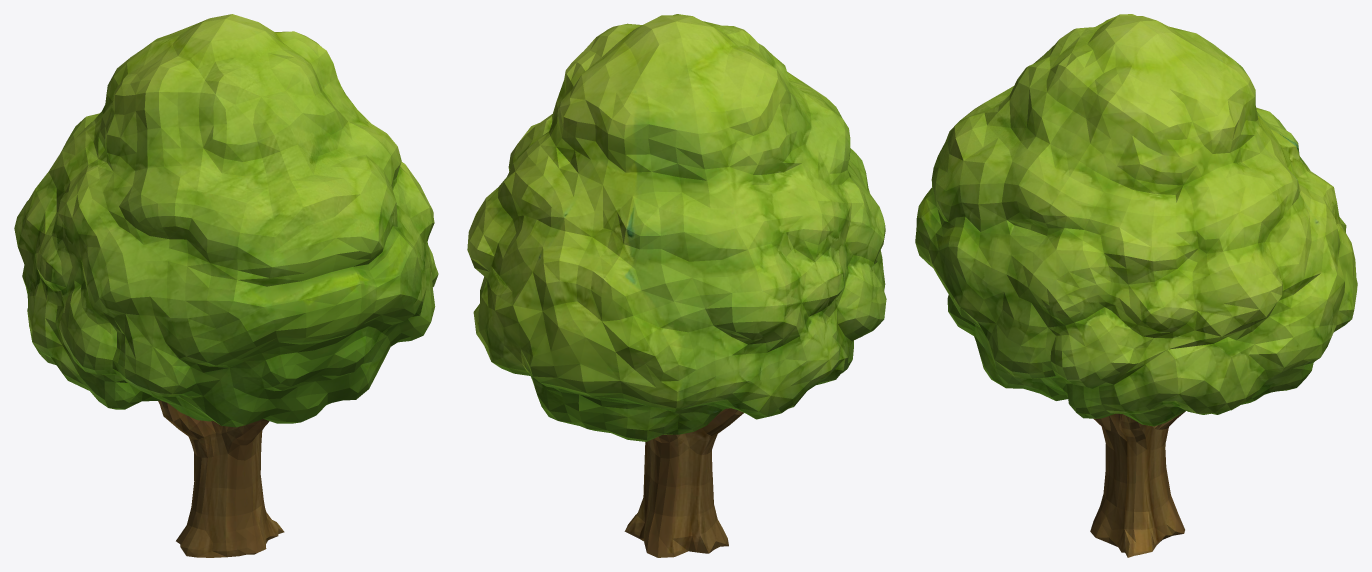
Rendered from Tree3.glb.
3 renders of one model, left to right at view 1: azimuth 30°, elevation 25°; view 2: azimuth 150°, elevation 25°; view 3: azimuth 270°, elevation 25°, orthographic.
Visible parts, largest first — view 1: tripo_node_56f3d3fc-41d4-479d-a2f2-a57e836636cc; view 2: tripo_node_56f3d3fc-41d4-479d-a2f2-a57e836636cc; view 3: tripo_node_56f3d3fc-41d4-479d-a2f2-a57e836636cc.
Part boxes in pixels (left/top/right/bottom): tripo_node_56f3d3fc-41d4-479d-a2f2-a57e836636cc: left=14, top=14, right=438, bottom=557; tripo_node_56f3d3fc-41d4-479d-a2f2-a57e836636cc: left=467, top=14, right=886, bottom=557; tripo_node_56f3d3fc-41d4-479d-a2f2-a57e836636cc: left=915, top=14, right=1357, bottom=557.
Bounding box in the file's own units: 0.281 × 0.3926 × 0.3078.
1 material, 1 textured.
